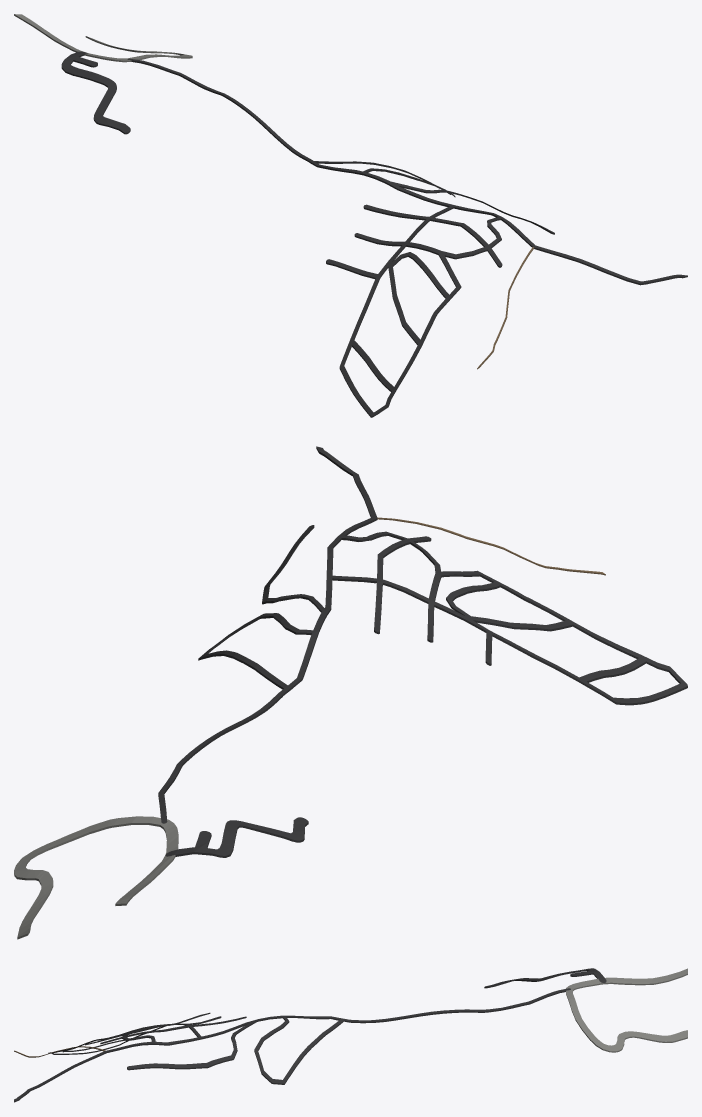
3 views of the same model, one above another, from view 1: azimuth 30°, elevation 25°; view 2: azimuth 150°, elevation 25°; view 3: azimuth 270°, elevation 25° (orthographic). The views are drawn at different scales.
Bounding box in the file's own units: 244 × 92.71 × 583.
